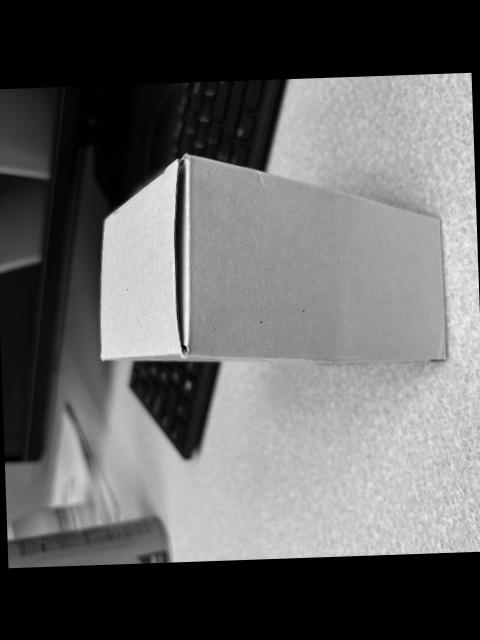CameraBox1: (101, 153, 451, 365)
